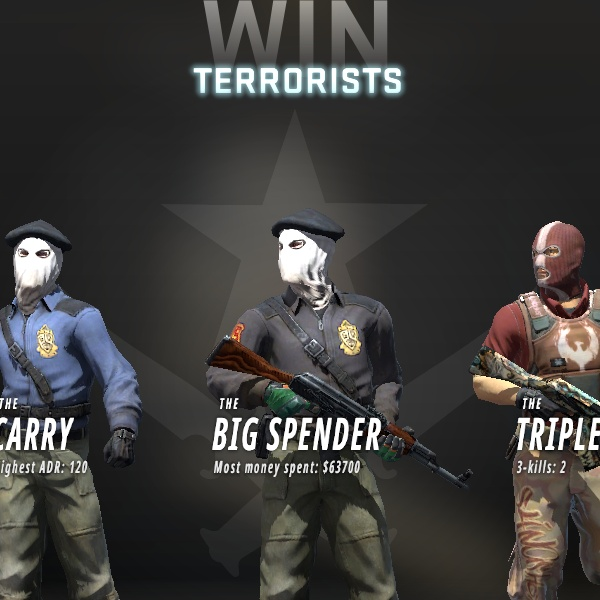t_body: (443, 203, 598, 600)
t_head: (508, 207, 600, 320)
